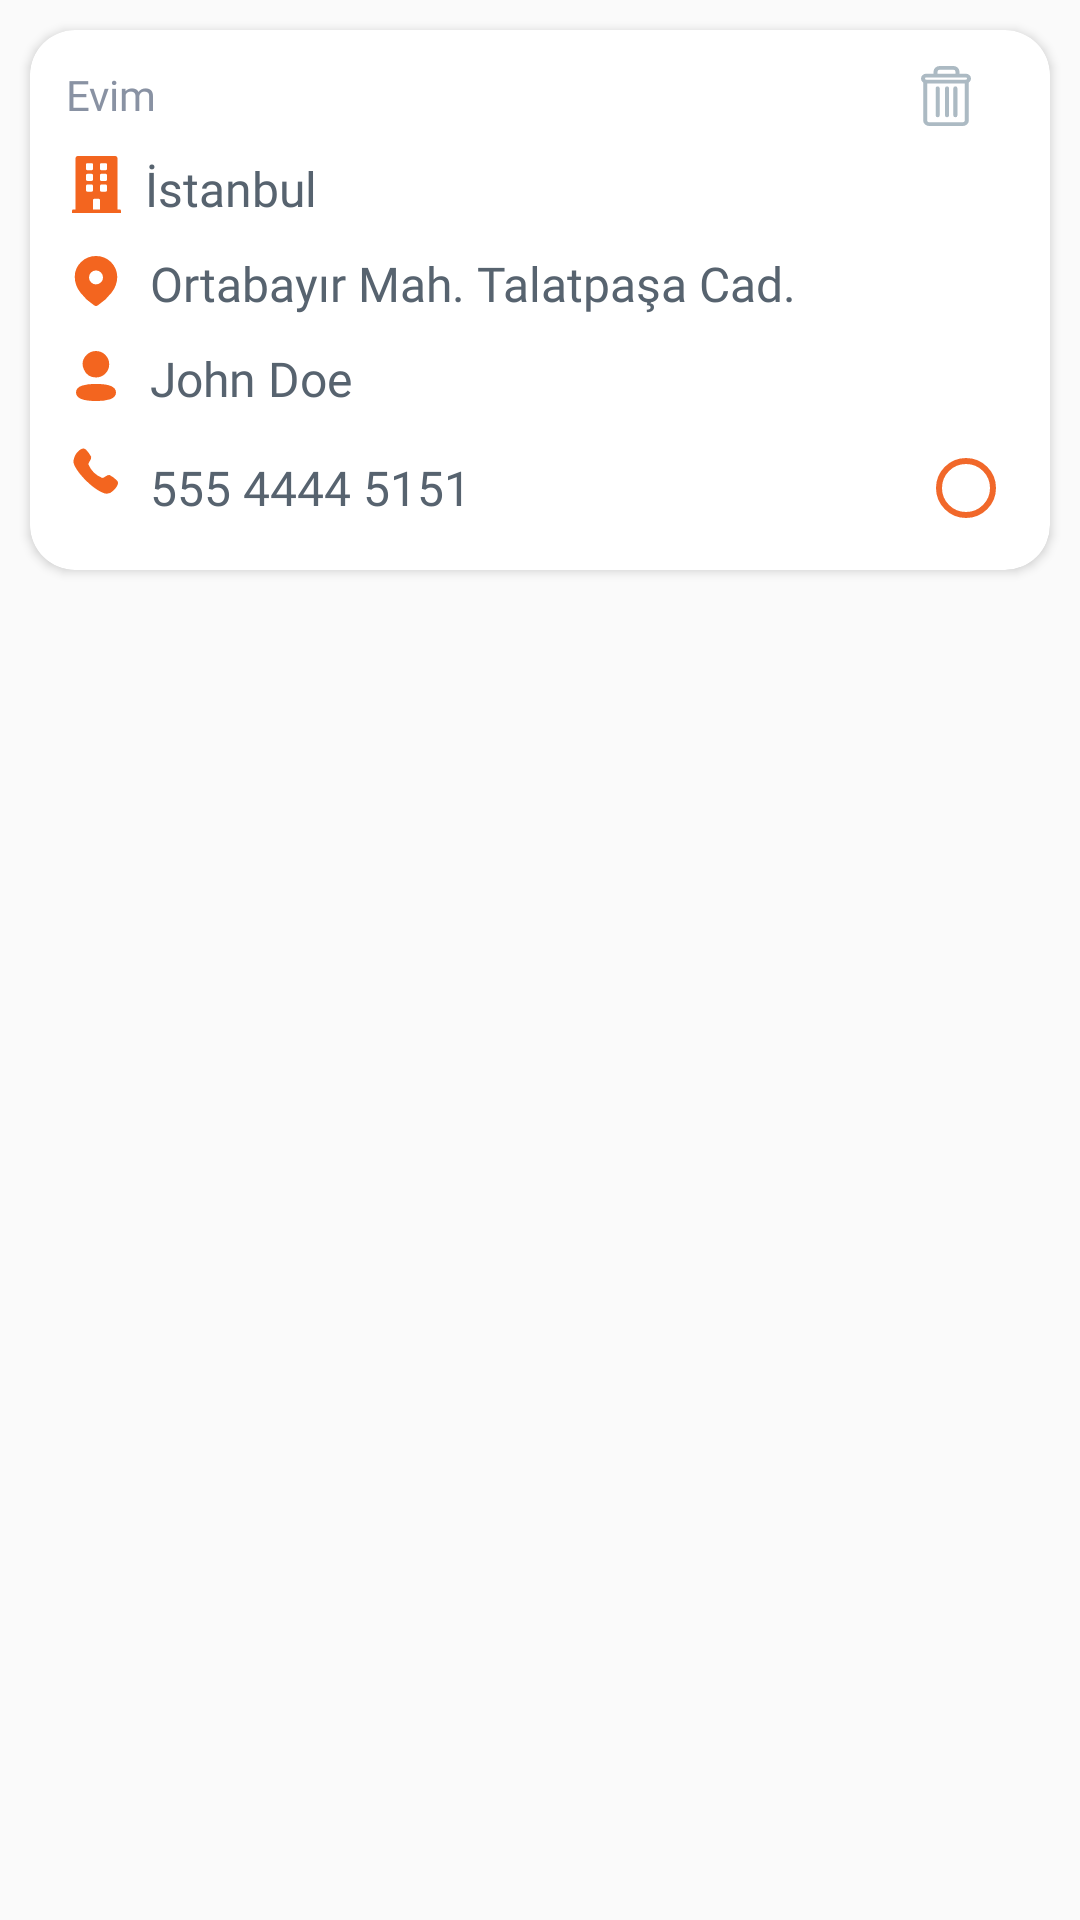

Point at icon controls on the screen. Image size 1080w x 1920h, points as [x,y].
card city: [96,184]
card location: [96,281]
card user: [96,376]
delete card: [946,96]
